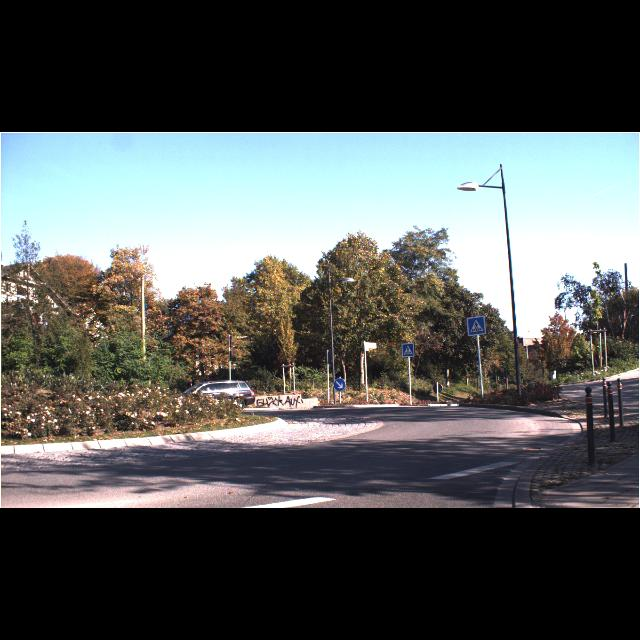mandatory: (333, 378, 345, 392)
